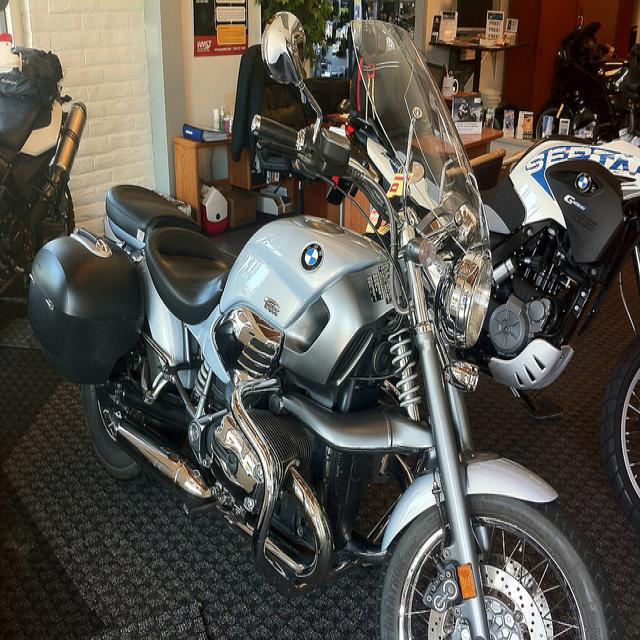motor: (28, 12, 625, 632), (473, 137, 640, 523), (0, 44, 89, 323), (535, 50, 640, 140)
